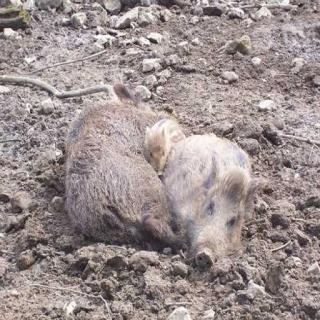Pig: (179, 93, 288, 291)
